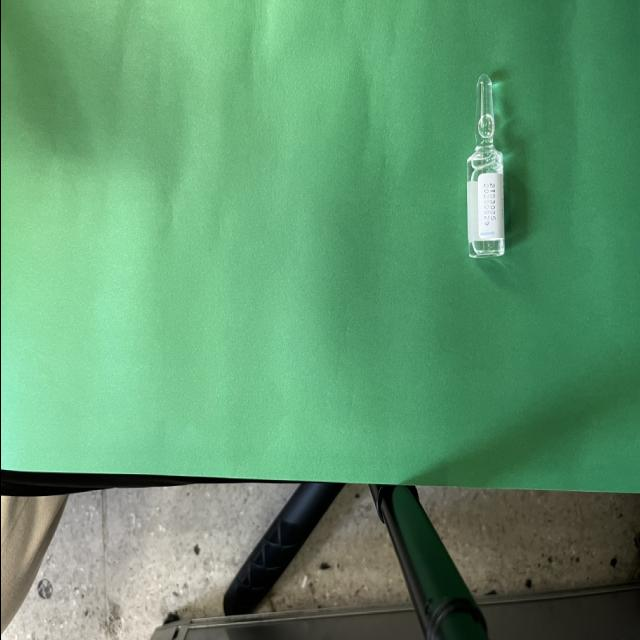Ampoules: (466, 73, 504, 258)
